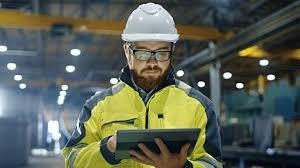helmet: (120, 2, 182, 43)
person with partial safety: (62, 3, 226, 164)
